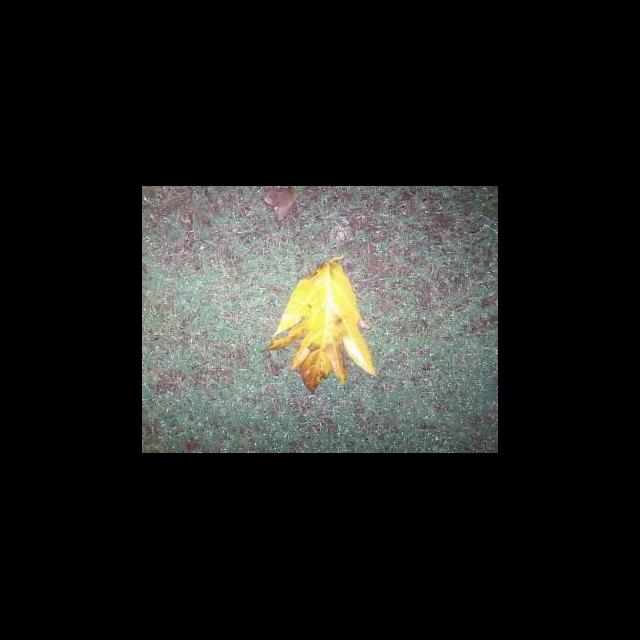food_waste: (250, 252, 404, 418)
